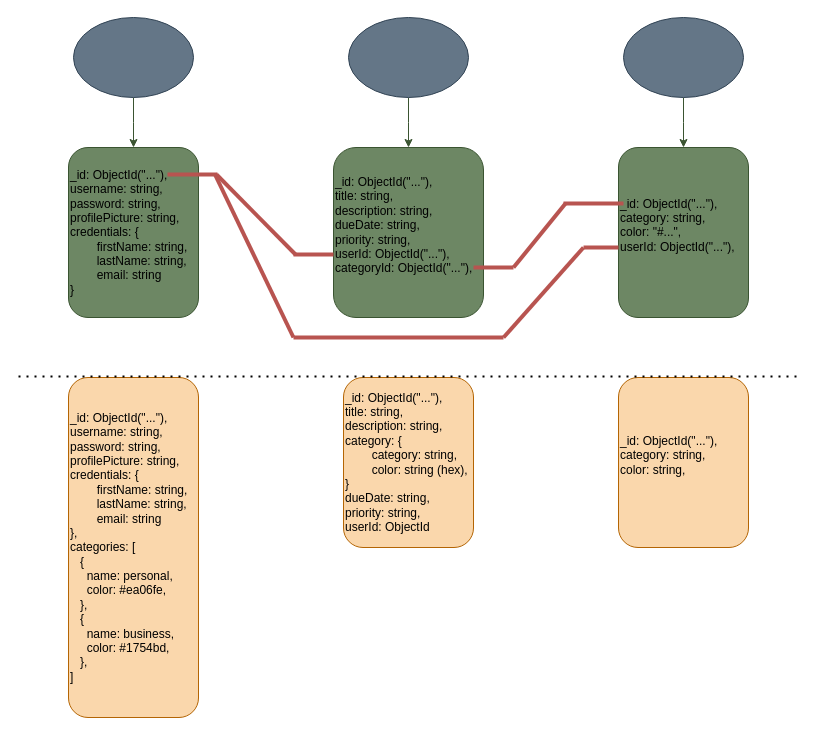
The diagram is 817 pixels wide and 735 high, and some of its shapes have lost their labels. The shapes that lost their labels are listed below. From the top down, each one's centre as x and y in pixels, then its label:
At point 133,57: "Users:".
At point 408,57: "Tasks:".
At point 683,57: "Categories:".
